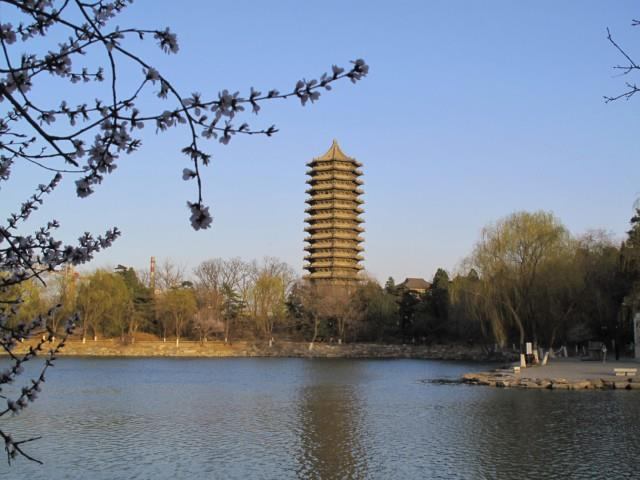Peking_Univ_Boya_Tower: (298, 134, 376, 316)
